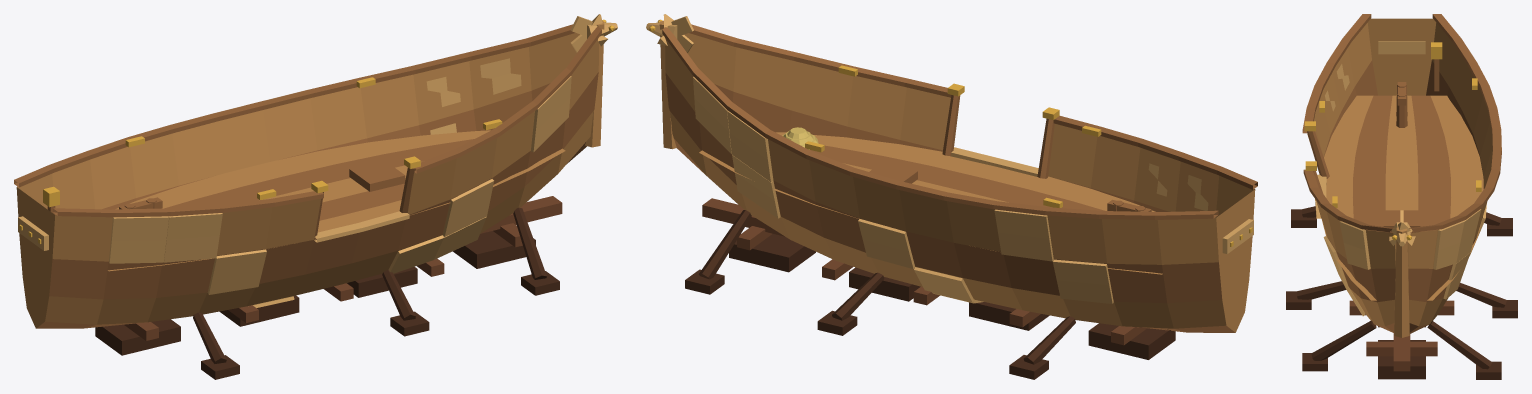
Rendered from ship_hull_repaired.glb.
The picture shows the model from 3 angles, left to right: view 1: azimuth 30°, elevation 25°; view 2: azimuth 150°, elevation 25°; view 3: azimuth 270°, elevation 25°; orthographic projection. The views are drawn at different scales.
Parts seen in each view (by area): view 1: Hull_Strake_4_Star.003, Hull_Strake_3_Port.003, Hull_Strake_4_Port.003, Hull_Strake_2_Port.003, Deck_Strip_5.003, Deck_Strip_4.003, Transom_Panel.003, Rail_Star_Top, Hull_Strake_3_Star.003, Rail_Port_Top.001, Rail_Star_Edge_1, Rail_Port_Edge_2.001 (+29 smaller); view 2: Hull_Strake_4_Port.003, Hull_Strake_4_Star.003, Hull_Strake_3_Star.003, Hull_Strake_2_Star.003, Deck_Strip_1.003, Deck_Strip_2.003, Rail_Star_Top, Transom_Panel.003, Hull_Strake_3_Port.003, Rail_Star_Edge_2, Rail_Port_Top.001, Rail_Port_Edge_1.001 (+31 smaller); view 3: Hull_Strake_4_Port.003, Hull_Strake_4_Star.003, Transom_Panel.003, Deck_Strip_2.003, Deck_Strip_4.003, Deck_Strip_5.003, Deck_Strip_1.003, Deck_Strip_3.003, Hull_Strake_3_Port.003, Rail_Star_Top, Hull_Strake_3_Star.003, Rail_Port_Top.001 (+34 smaller).
Boxes of the visible parts, x1=… form: Hull_Strake_4_Star.003: x1=17, y1=33, x2=579, y2=214; Hull_Strake_3_Port.003: x1=49, y1=72, x2=598, y2=299; Hull_Strake_4_Port.003: x1=52, y1=39, x2=598, y2=261; Hull_Strake_2_Port.003: x1=45, y1=111, x2=593, y2=324; Deck_Strip_5.003: x1=115, y1=130, x2=490, y2=209; Deck_Strip_4.003: x1=165, y1=139, x2=473, y2=208; Transom_Panel.003: x1=16, y1=187, x2=54, y2=328; Rail_Star_Top: x1=14, y1=24, x2=572, y2=183; Hull_Strake_3_Star.003: x1=102, y1=83, x2=550, y2=209; Rail_Port_Top.001: x1=53, y1=26, x2=601, y2=212; Rail_Star_Edge_1: x1=19, y1=30, x2=575, y2=187; Rail_Port_Edge_2.001: x1=57, y1=30, x2=601, y2=217; Hull_Strake_4_Port.003: x1=684, y1=33, x2=1254, y2=217; Hull_Strake_4_Star.003: x1=665, y1=38, x2=1218, y2=264; Hull_Strake_3_Star.003: x1=665, y1=73, x2=1222, y2=303; Hull_Strake_2_Star.003: x1=670, y1=111, x2=1226, y2=328; Deck_Strip_1.003: x1=776, y1=132, x2=1155, y2=211; Deck_Strip_2.003: x1=810, y1=145, x2=1104, y2=210; Rail_Star_Top: x1=662, y1=27, x2=1217, y2=215; Transom_Panel.003: x1=1216, y1=189, x2=1255, y2=332; Hull_Strake_3_Port.003: x1=714, y1=84, x2=1168, y2=211; Rail_Star_Edge_2: x1=662, y1=30, x2=1213, y2=219; Rail_Port_Top.001: x1=691, y1=24, x2=1257, y2=185; Rail_Port_Edge_1.001: x1=689, y1=30, x2=1252, y2=189; Hull_Strake_4_Port.003: x1=1307, y1=23, x2=1395, y2=268; Hull_Strake_4_Star.003: x1=1408, y1=23, x2=1492, y2=268; Transom_Panel.003: x1=1367, y1=18, x2=1436, y2=95; Deck_Strip_2.003: x1=1353, y1=95, x2=1392, y2=231; Deck_Strip_4.003: x1=1411, y1=95, x2=1450, y2=231; Deck_Strip_5.003: x1=1427, y1=95, x2=1483, y2=300; Deck_Strip_1.003: x1=1321, y1=95, x2=1376, y2=300; Deck_Strip_3.003: x1=1385, y1=95, x2=1418, y2=210; Hull_Strake_3_Port.003: x1=1323, y1=60, x2=1395, y2=302; Rail_Star_Top: x1=1409, y1=14, x2=1501, y2=228; Hull_Strake_3_Star.003: x1=1408, y1=60, x2=1482, y2=302; Rail_Port_Top.001: x1=1302, y1=14, x2=1396, y2=228.
Bounding box in the file's own units: 10.9 × 3.82 × 4.14.
